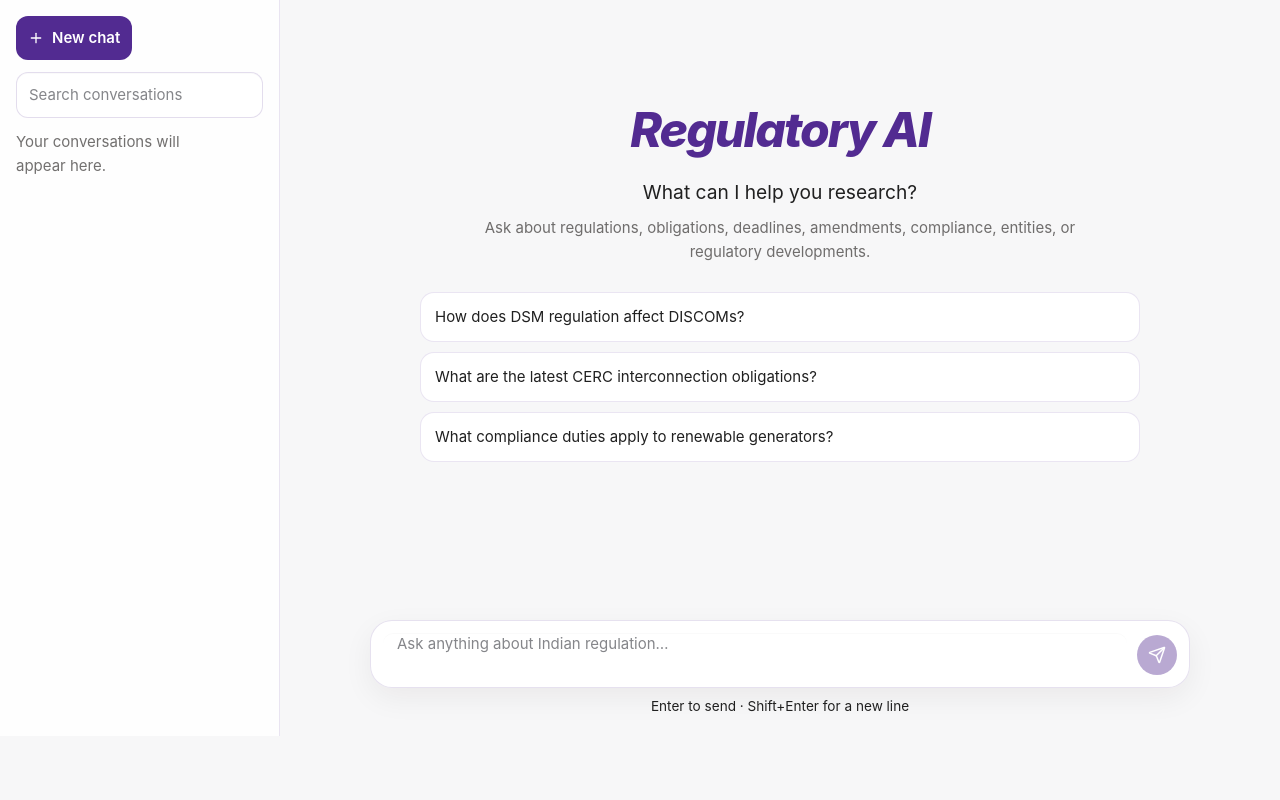
Test: AskConversationWorkspace › renders one Sources section and deduplicates the same document
Type "What is DSM?" into the text box labelled "Ask anything about Indian regulation" at x=755, y=654, box 383,633 -> 1127,675
Then press Enter
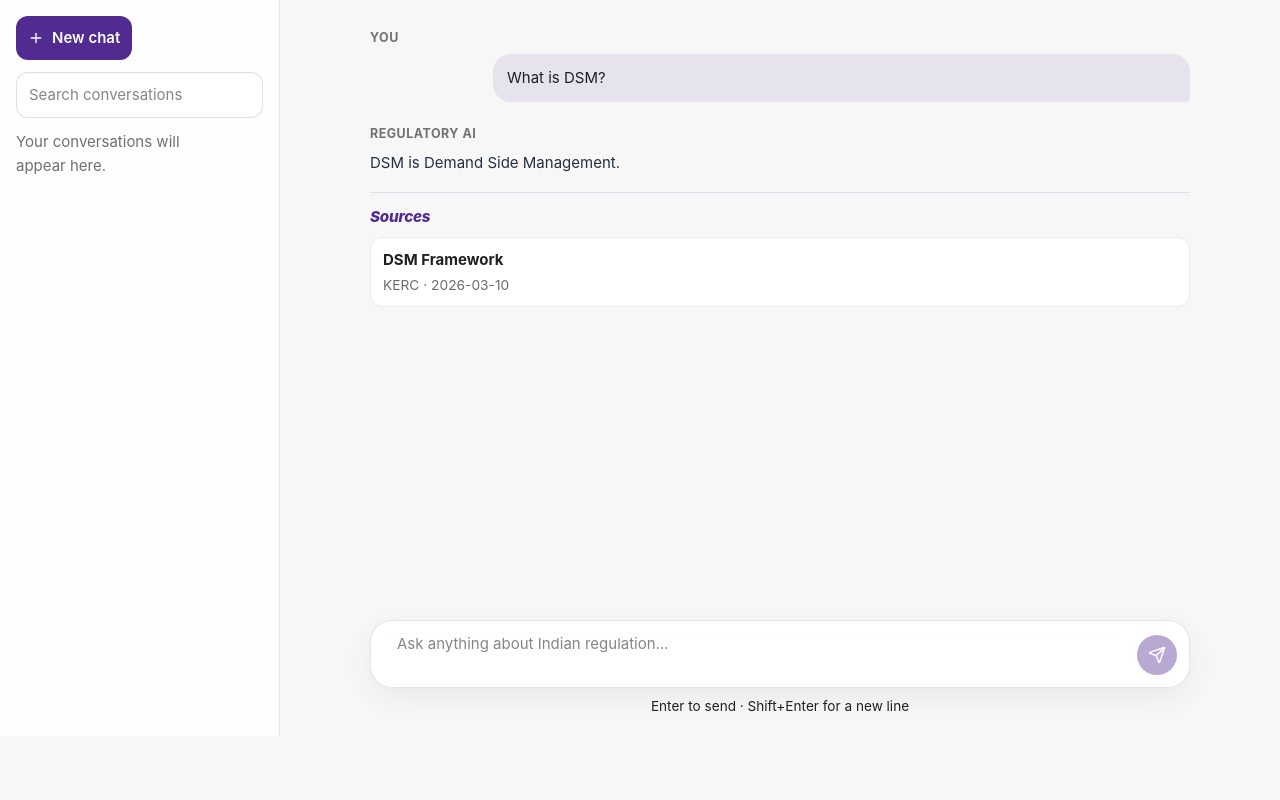
Expected: the text "DSM is Demand Side Management." is shown, 370,153 -> 620,172
Expected: the number of headings "Sources" is 1, 370,207 -> 430,226
Expected: the number of buttons "DSM Framework KERC · 2026-03-10" is 1, 370,237 -> 1190,307
